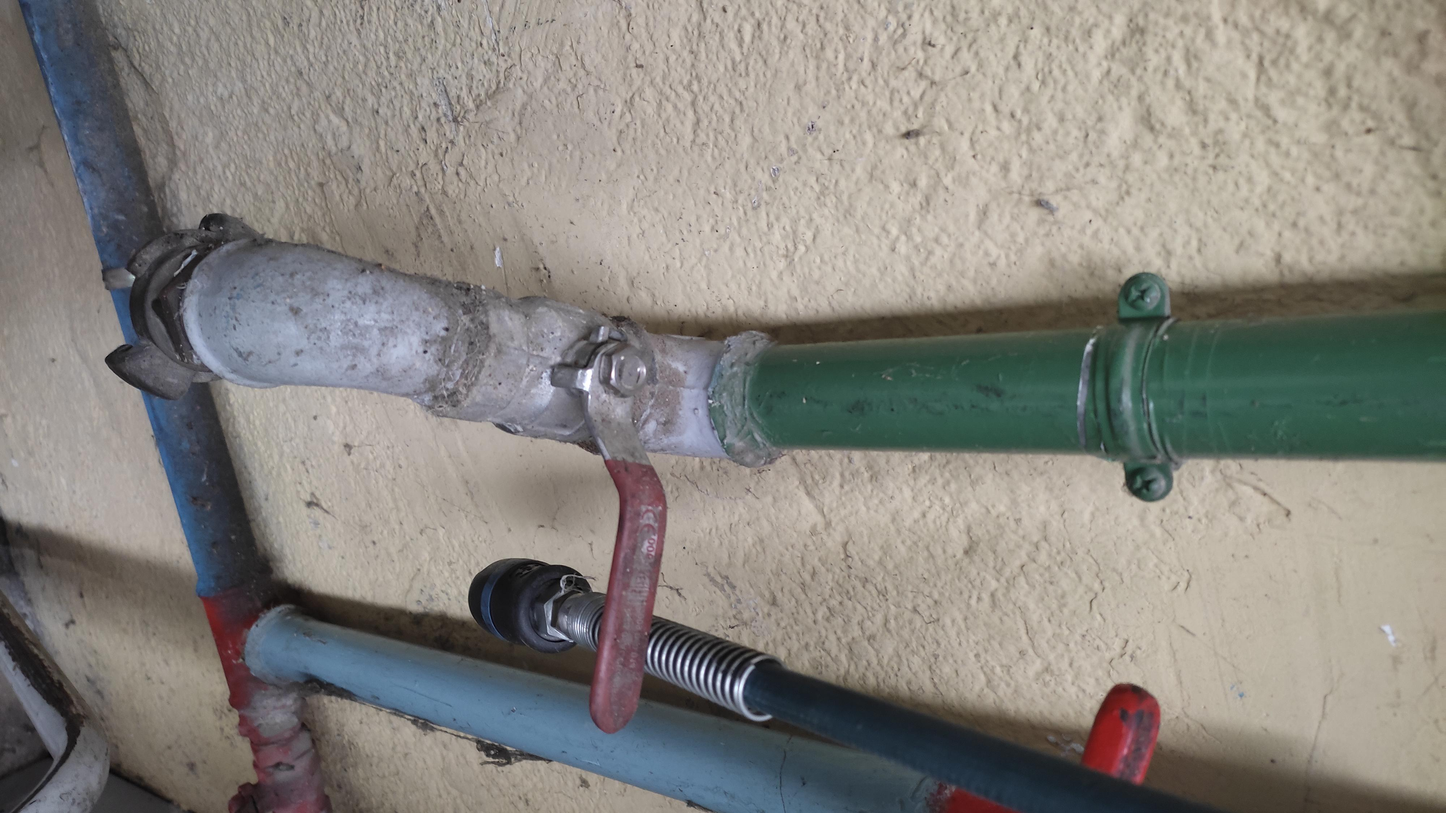closed valve: (480, 281, 675, 741)
